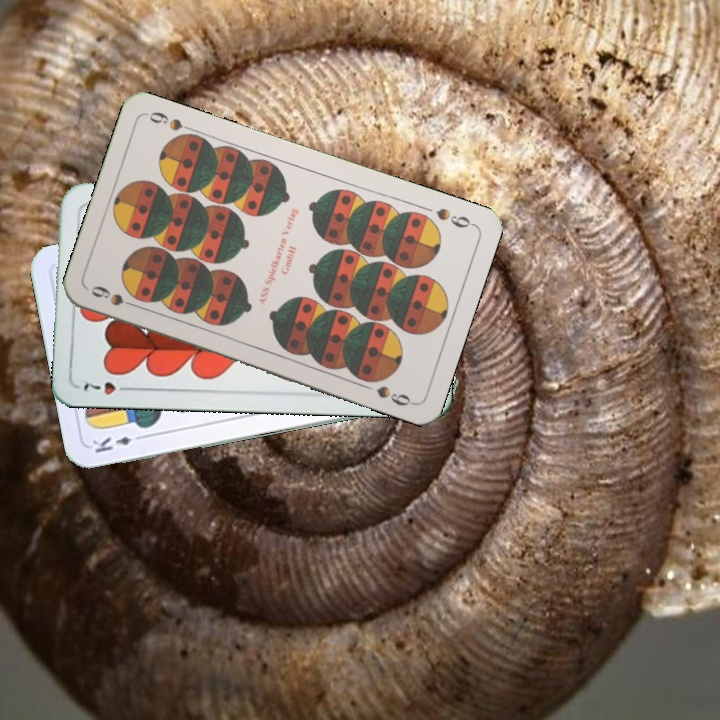EK: (88, 430, 148, 456)
H7: (79, 377, 136, 398)
S9: (87, 281, 143, 311), (432, 204, 477, 231)
